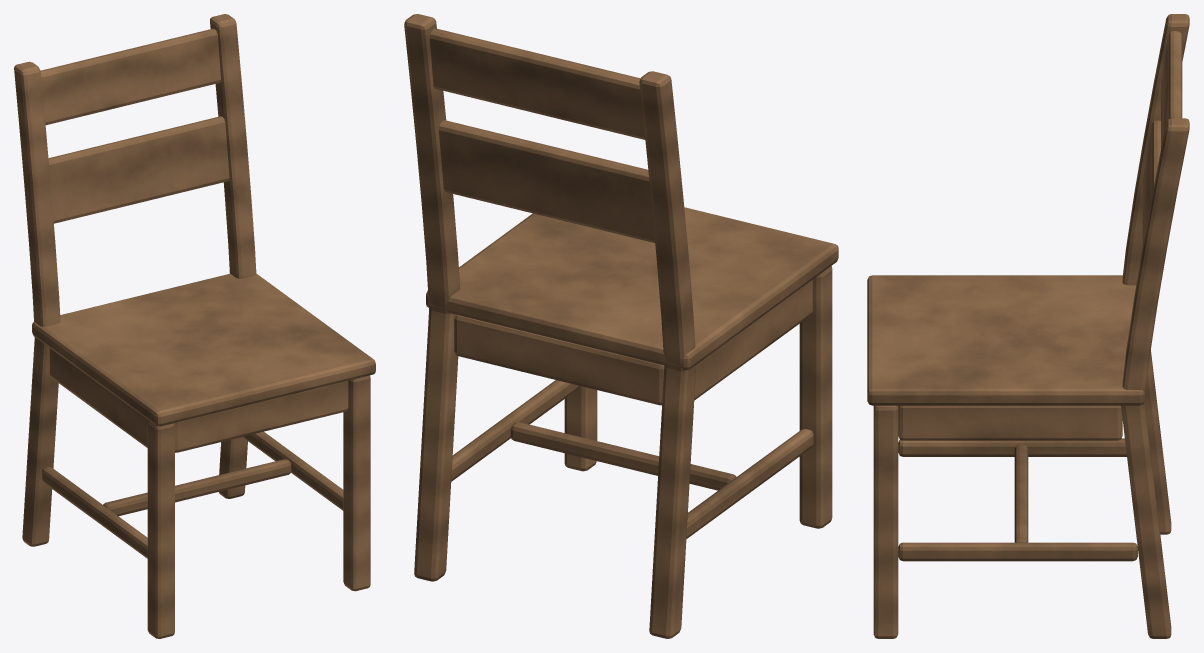
Rendered from silla comedor.fbx.
3 views of the same model, side by side, from view 1: azimuth 30°, elevation 25°; view 2: azimuth 150°, elevation 25°; view 3: azimuth 270°, elevation 25° (orthographic). The views are drawn at different scales.
Parts seen in each view (by area): view 1: Asiento; view 2: Asiento; view 3: Asiento.
Part boxes in pixels (<box>): Asiento: <box>14,14,375,638</box>; Asiento: <box>404,14,838,638</box>; Asiento: <box>867,14,1189,638</box>.
Size of the model in its own units: 45 by 92 by 52.26.
1 material, 1 textured.
